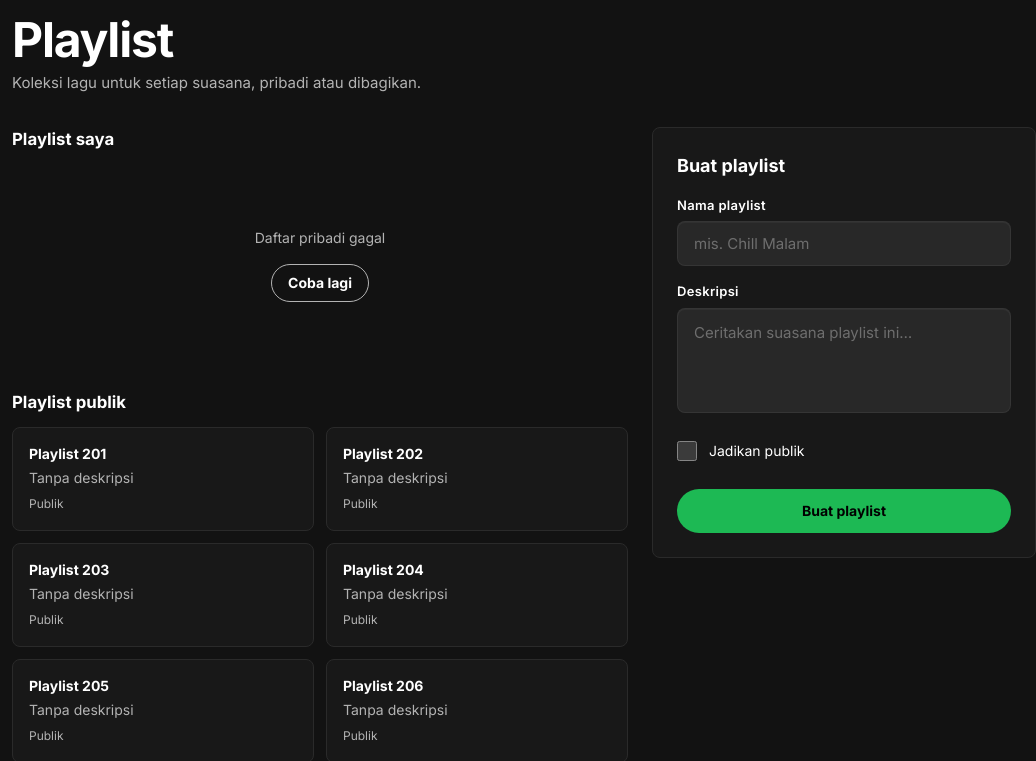
PlaylistsPage pagination › keeps one list usable when the other initial request fails
Expected: the text "Daftar pribadi gagal" is shown, [255,228,385,248]
Expected: the text "Playlist 201" is shown, [29,445,106,462]
Click the button "Coba lagi": (320, 283) [271,264,369,302]
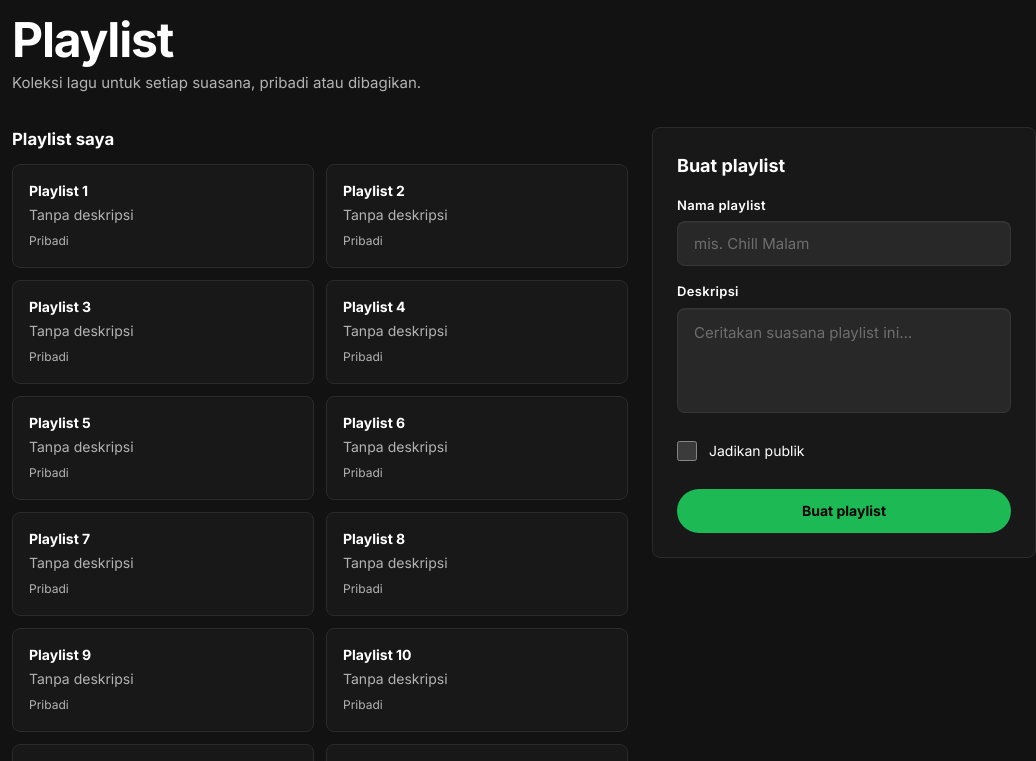
Result: the text "Playlist 1" is shown at [29,182,88,199]
